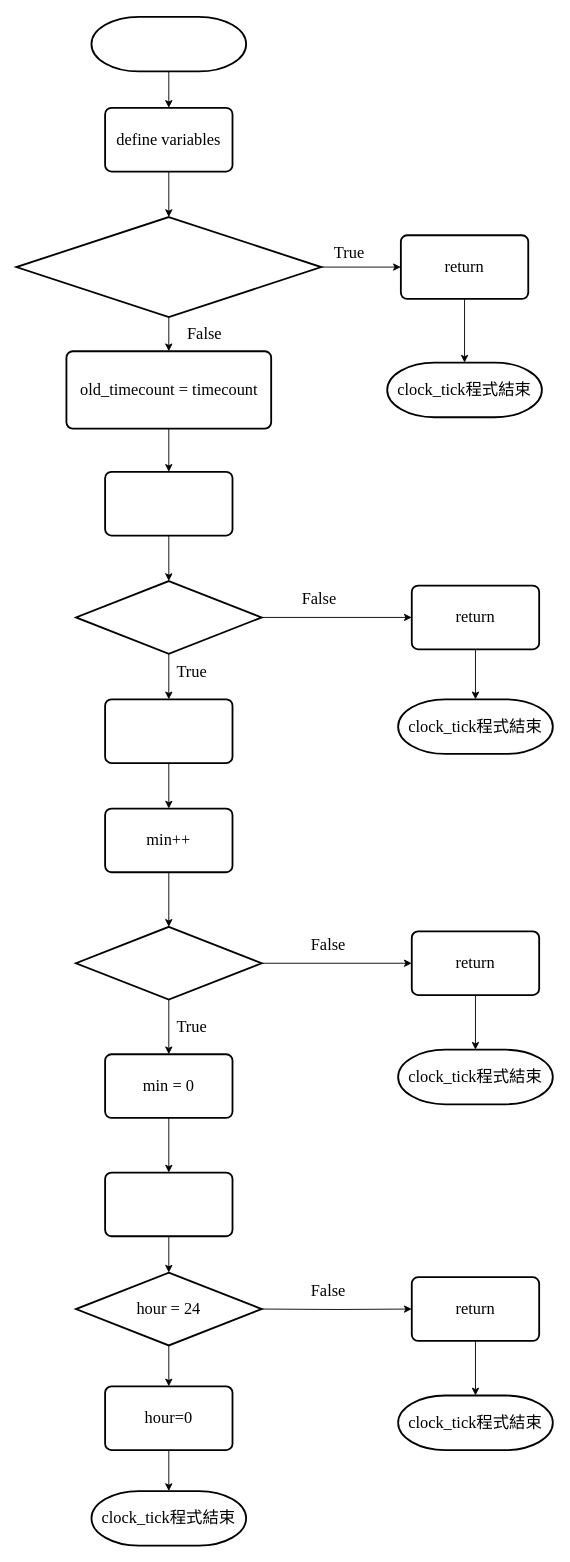
This 570x1562 diagram has some shape labels left out. The box of each missing label's shape, as (x1, y1, x2, y2) in pixels:
clock_tick程式開始: (90, 15, 247, 72)
hour++: (104, 1171, 233, 1237)
min = 60: (75, 925, 262, 1000)
sec = 0: (104, 698, 233, 763)
sec = 60: (75, 580, 262, 654)
sec++: (104, 470, 233, 536)
timecount - old_timecount < 10000: (15, 216, 322, 318)
